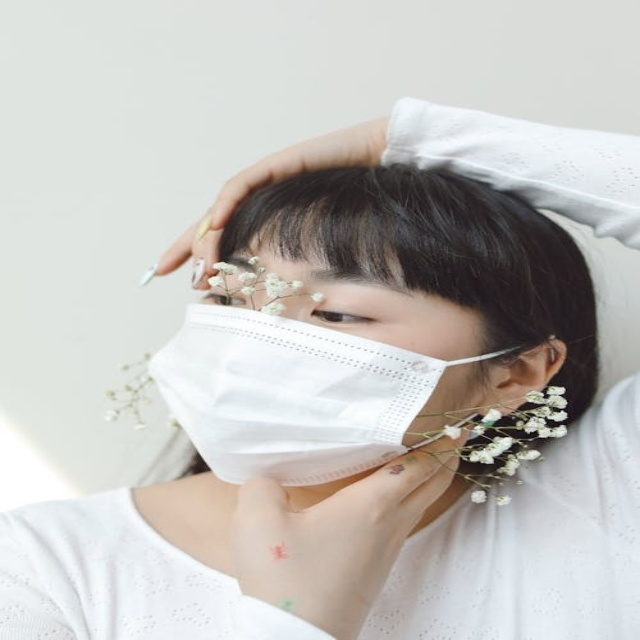Mascara: (148, 303, 527, 488)
Sin_gafas: (201, 261, 425, 335)
Sin_guantes: (226, 429, 467, 634), (146, 119, 393, 285)
